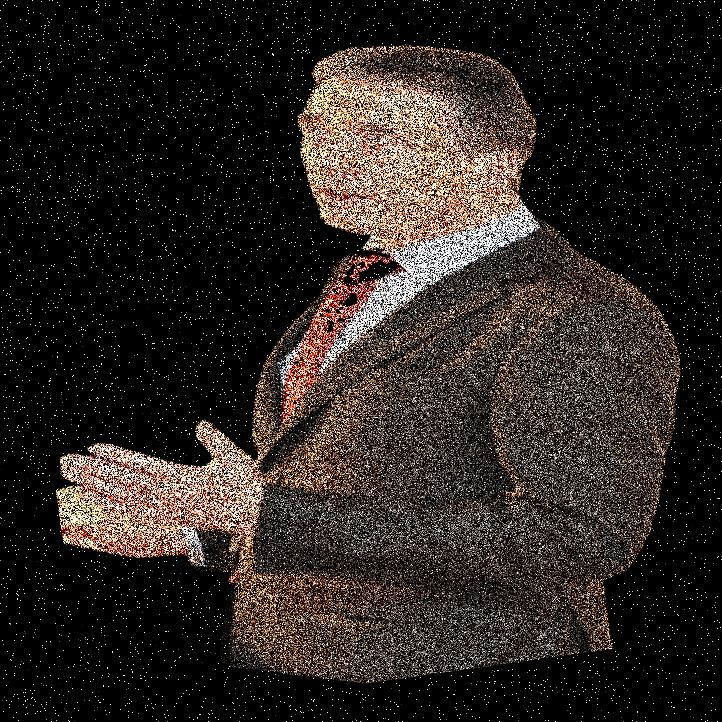Pessoa: (309, 0, 721, 721)
